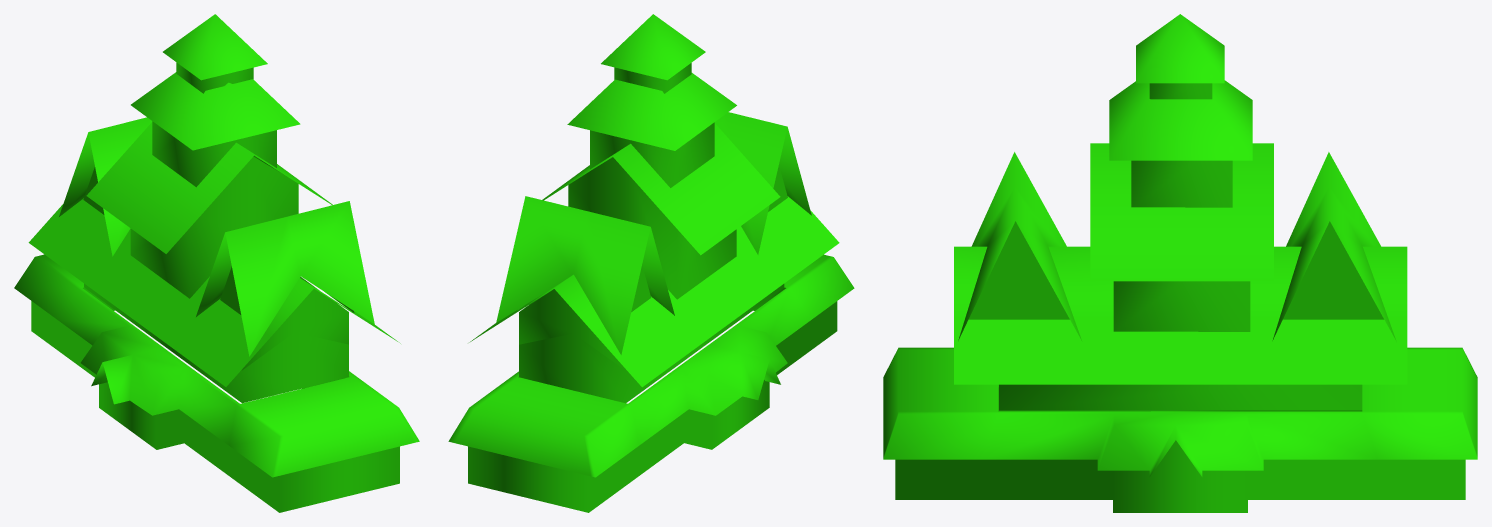
The picture shows the model from 3 angles, left to right: view 1: azimuth 30°, elevation 25°; view 2: azimuth 150°, elevation 25°; view 3: azimuth 270°, elevation 25°; orthographic projection. The views are drawn at different scales.
Parts seen in each view (by area): view 1: Plane.007, Plane.022, Plane.009, Plane.005, Plane.012, Plane.008, Plane.010, Plane.014, Plane.016, Plane.013, Plane.015, Plane.019; view 2: Plane.007, Plane.022, Plane.009, Plane.005, Plane.012, Plane.008, Plane.014, Plane.010, Plane.016, Plane.013, Plane.015, Plane.019; view 3: Plane.007, Plane.009, Plane.005, Plane.012, Plane.022, Plane.019, Plane.014, Plane.008, Plane.010, Plane.013, Plane.016, Plane.015.
Boxes of the visible parts, <box> form: Plane.007: <box>14,254,419,477</box>; Plane.022: <box>59,117,374,356</box>; Plane.009: <box>28,198,400,386</box>; Plane.005: <box>31,287,399,512</box>; Plane.012: <box>86,122,332,253</box>; Plane.008: <box>84,277,348,403</box>; Plane.010: <box>130,155,298,298</box>; Plane.014: <box>131,72,300,150</box>; Plane.016: <box>163,14,267,80</box>; Plane.013: <box>152,121,276,187</box>; Plane.015: <box>176,62,253,93</box>; Plane.019: <box>83,167,354,314</box>; Plane.007: <box>448,254,854,477</box>; Plane.022: <box>496,112,811,354</box>; Plane.009: <box>469,196,839,387</box>; Plane.005: <box>468,287,837,512</box>; Plane.012: <box>542,123,780,255</box>; Plane.008: <box>519,284,784,403</box>; Plane.014: <box>567,73,736,150</box>; Plane.010: <box>568,157,736,299</box>; Plane.016: <box>601,14,705,80</box>; Plane.013: <box>590,122,714,187</box>; Plane.015: <box>614,63,691,93</box>; Plane.019: <box>517,165,787,312</box>; Plane.007: <box>883,347,1477,476</box>; Plane.009: <box>954,246,1407,384</box>; Plane.005: <box>895,385,1465,512</box>; Plane.012: <box>1090,143,1273,281</box>; Plane.022: <box>958,152,1396,341</box>; Plane.019: <box>968,221,1383,319</box>; Plane.014: <box>1109,80,1252,160</box>; Plane.008: <box>999,384,1362,410</box>; Plane.010: <box>1113,281,1250,331</box>; Plane.013: <box>1131,160,1232,207</box>; Plane.016: <box>1136,14,1224,83</box>; Plane.015: <box>1149,83,1212,99</box>.
Bounding box in the file's own units: 2235 × 3790 × 4516.
